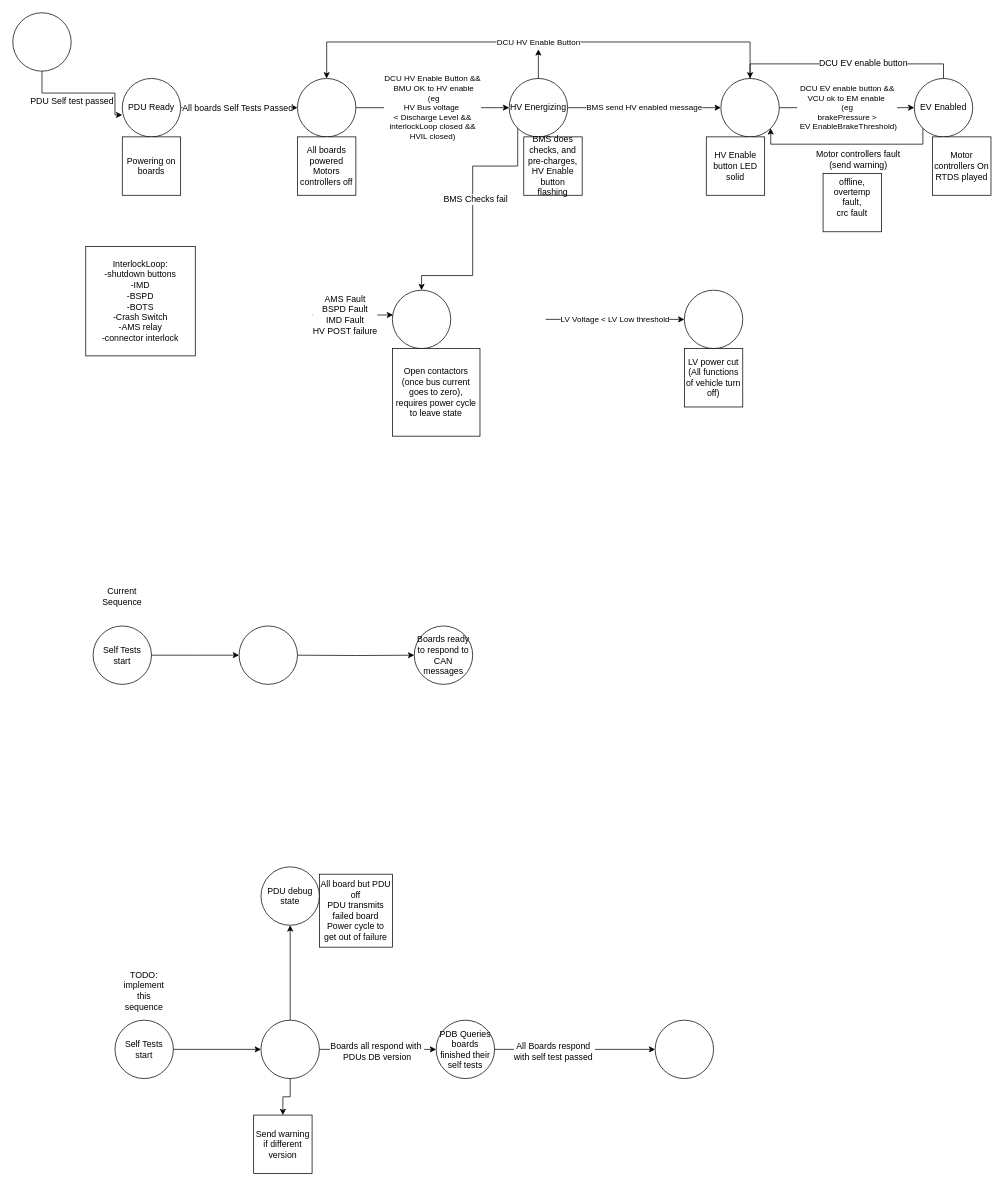
This 1004x1186 diagram has some shape labels left out. Each missing label, with the centre of its shape:
Boards ON, PDU Queries CAN DB version: (289,1049)
HV Critical Failure State: (421,319)
HV Enabled: (749,107)
LV Critical Failure State: (713,319)
Self Test Complete (goto standby): (684,1049)
Self tests passed: (267,654)
Standby: (326,107)
Start: (41,41)
